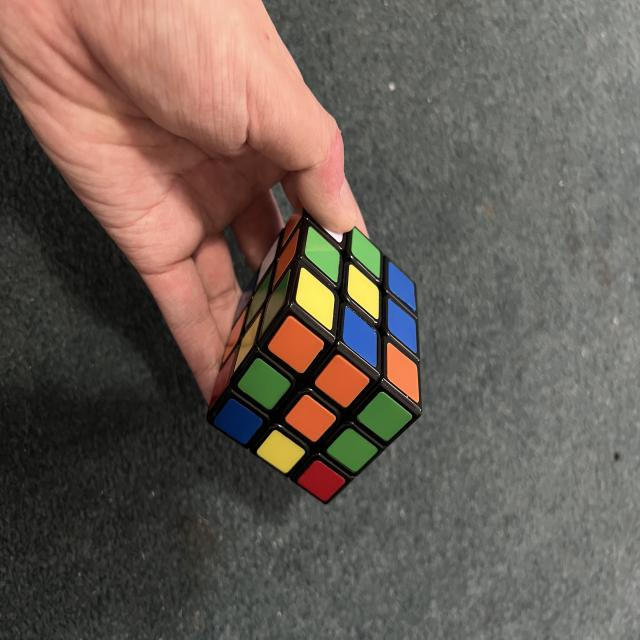blue: (327, 305, 394, 369), (373, 299, 431, 353), (211, 396, 265, 447), (375, 261, 428, 312), (225, 268, 268, 321)
center: (334, 263, 393, 321), (283, 392, 338, 445), (239, 272, 277, 326)
green: (355, 388, 414, 446), (294, 226, 353, 283), (235, 356, 293, 413), (253, 270, 300, 333), (340, 226, 393, 280), (325, 424, 379, 477), (240, 272, 277, 327)
orange: (370, 342, 436, 404), (265, 314, 327, 375), (312, 352, 371, 411), (283, 392, 338, 445), (264, 229, 308, 287), (221, 304, 248, 365), (274, 198, 308, 243)
red: (296, 456, 347, 506), (207, 349, 237, 413)
white: (251, 236, 285, 284), (322, 228, 344, 243)
yellow: (282, 267, 350, 331), (334, 263, 393, 321), (255, 427, 307, 477), (230, 309, 267, 371)
